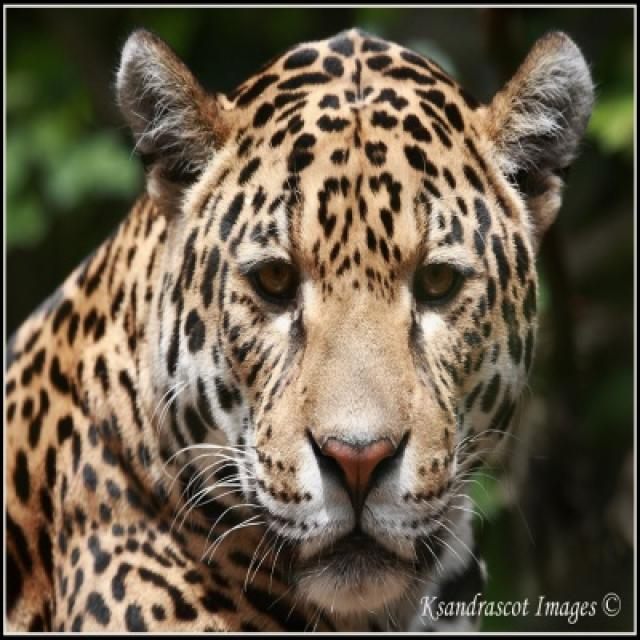Jaguar: (0, 27, 597, 637)
